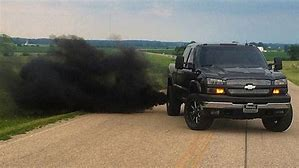smoke: (1, 34, 163, 117)
